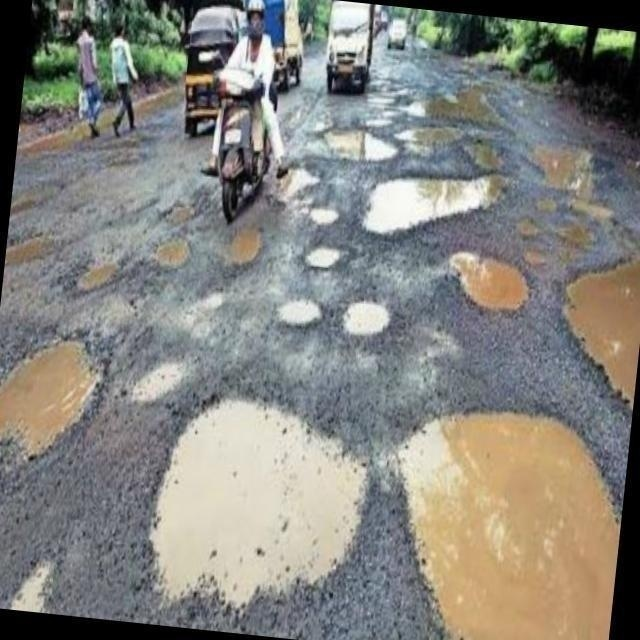pothole: (398, 390, 616, 640), (157, 403, 362, 603), (4, 323, 101, 451), (363, 167, 515, 232), (407, 74, 522, 156), (571, 250, 640, 374), (447, 242, 534, 314), (316, 118, 396, 156), (339, 292, 396, 336), (267, 162, 317, 204), (7, 231, 57, 273), (300, 234, 349, 276), (272, 294, 328, 327), (218, 222, 258, 260), (153, 234, 188, 269)
